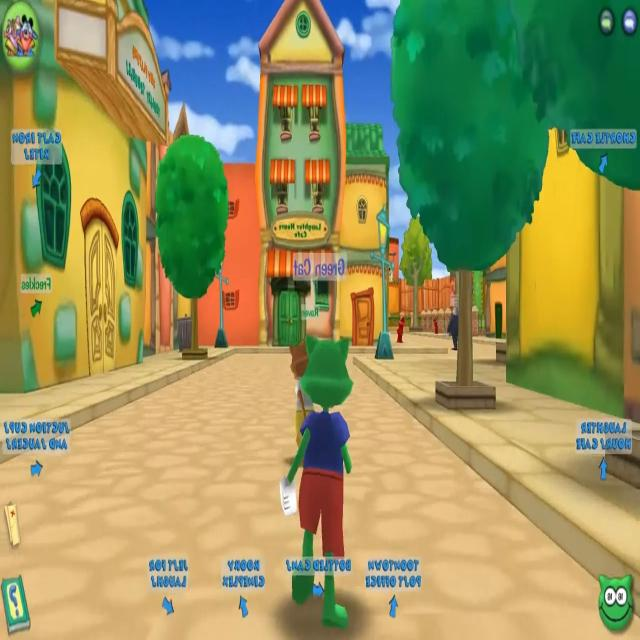bottomfeeder: (447, 301, 465, 353)
